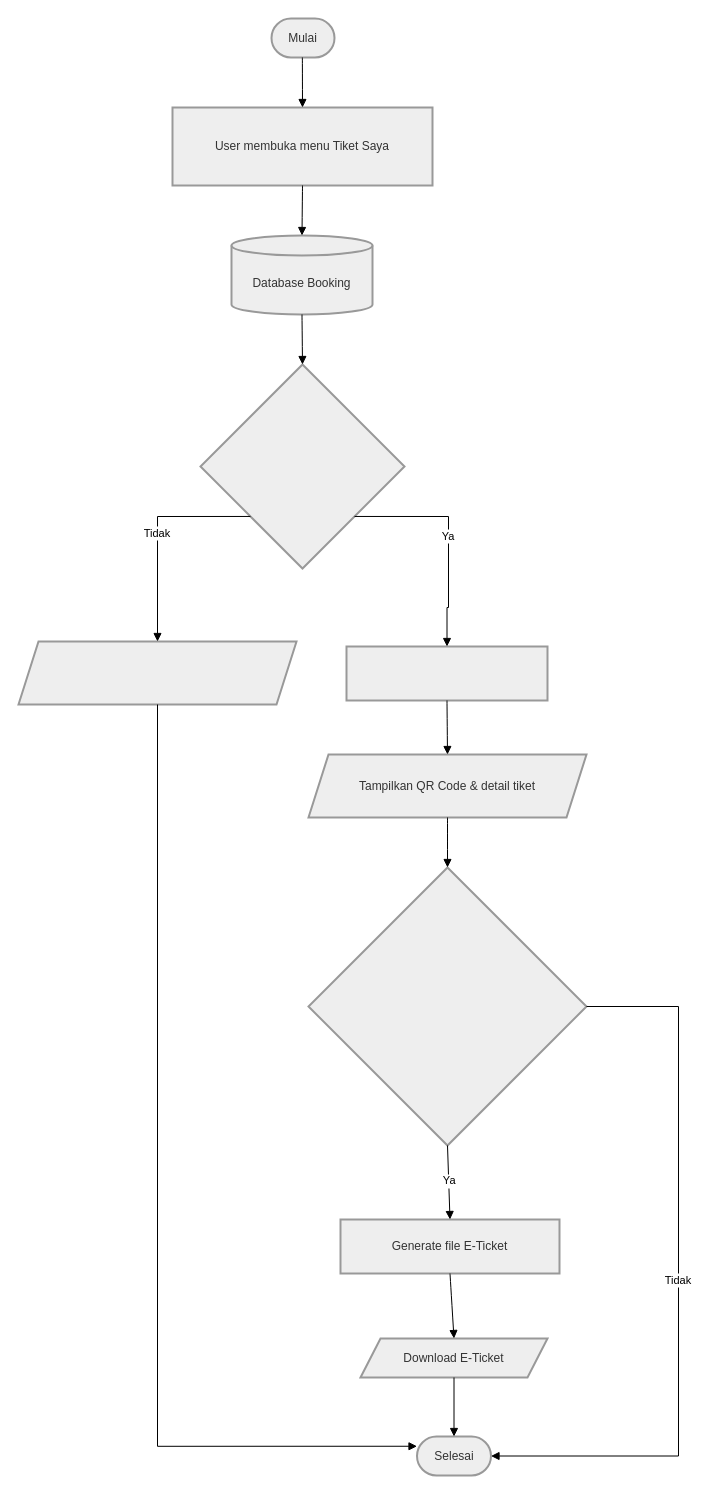
This 709x1493 diagram has some shape labels left out. Here are the shapes that lost their labels. From the top down, the box of each, then its label:
(199, 363, 405, 569): Booking sudah lunas?
(17, 640, 297, 705): Tampilkan status belum dibayar
(345, 645, 548, 701): Ambil data E-Ticket
(307, 866, 587, 1146): User ingin mengunduh tiket?
